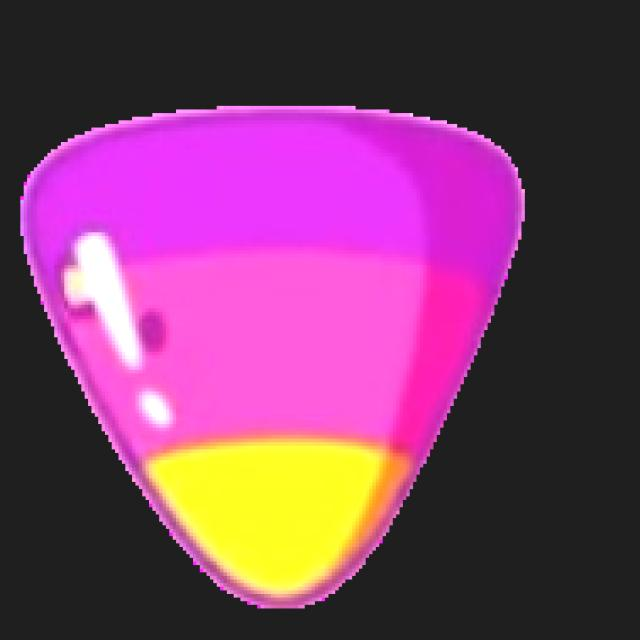jian: (18, 102, 526, 612)
